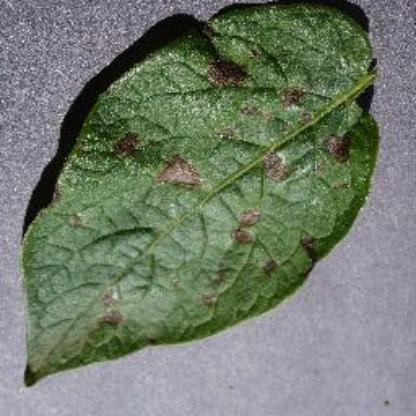Early-Blight: (19, 0, 388, 390)
